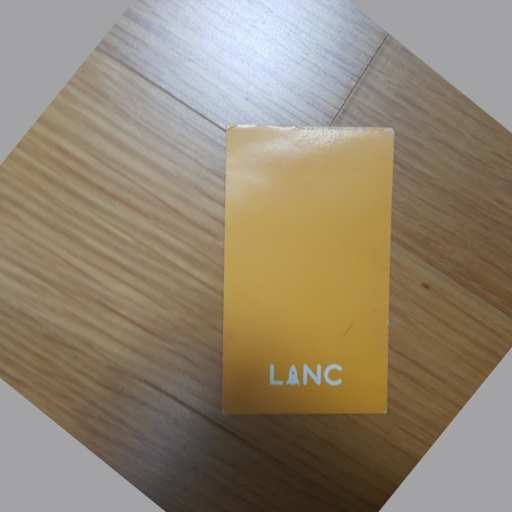Paper_2: (220, 118, 406, 431)
